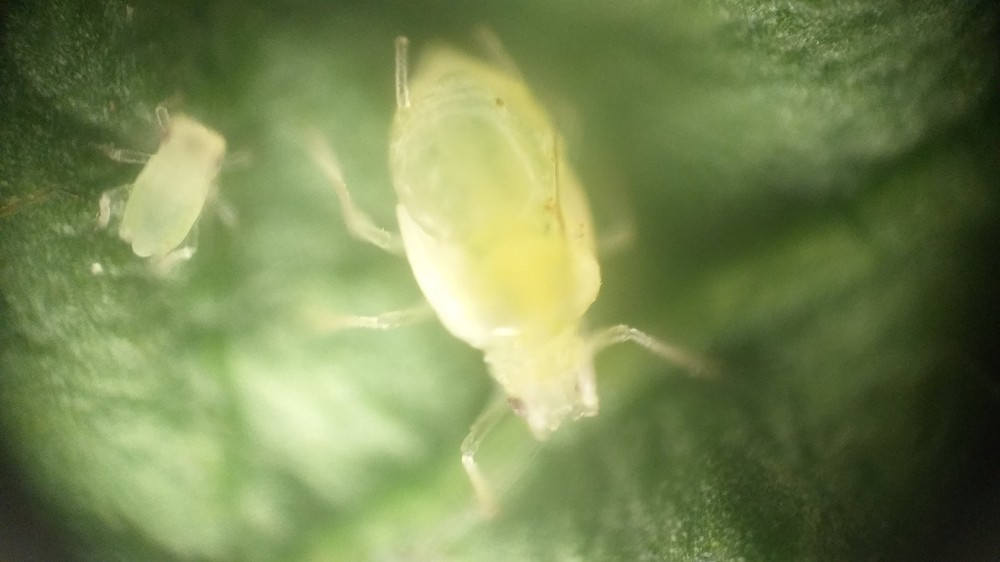Pulgon: (285, 31, 776, 522), (87, 87, 264, 297)
